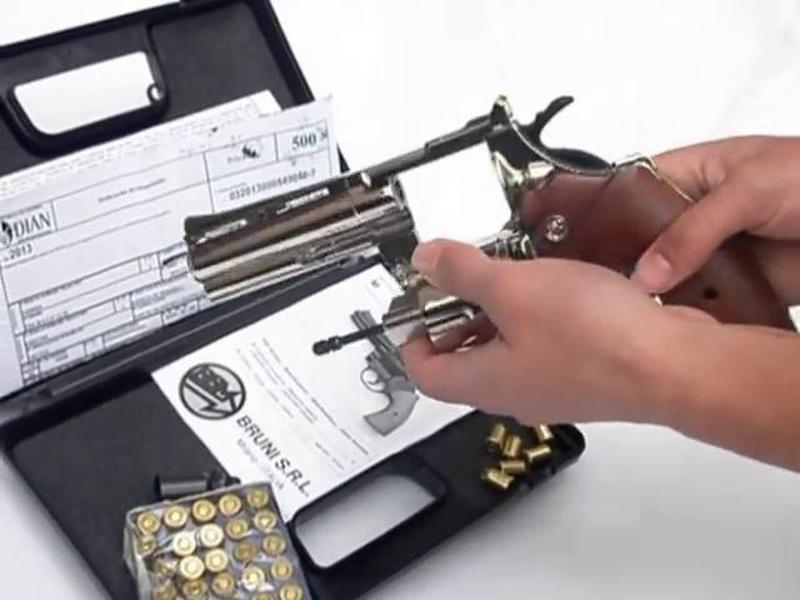Revolver: (172, 88, 781, 345)
